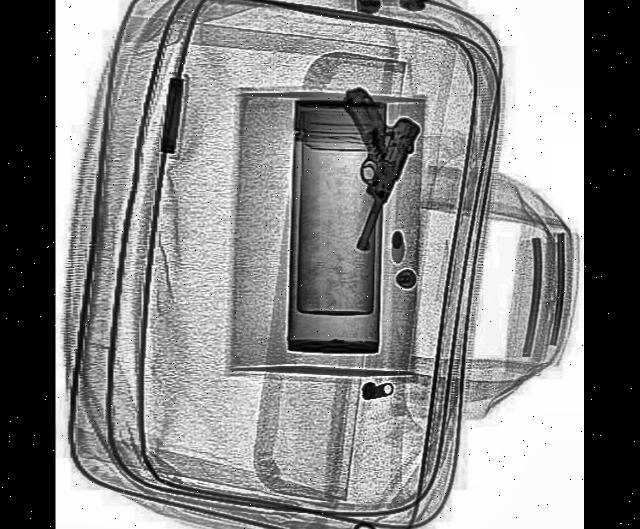Gun: (297, 78, 422, 259)
